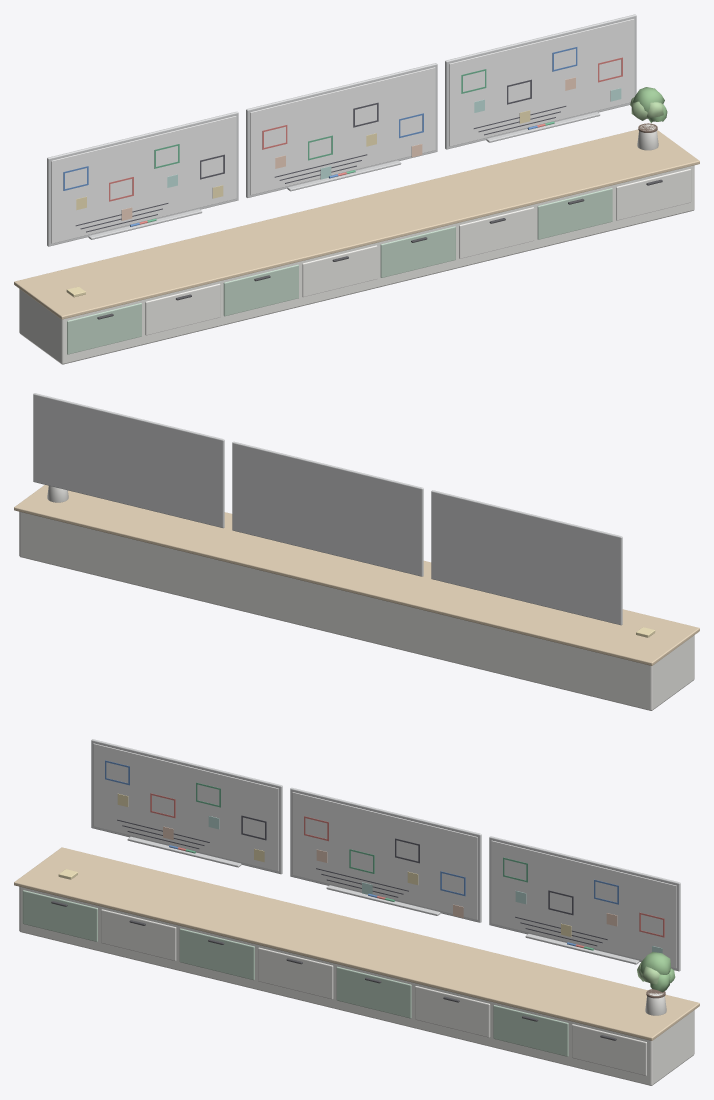
Rendered from prep.glb.
3 renders of one model, top to bottom at view 1: azimuth 30°, elevation 25°; view 2: azimuth 150°, elevation 25°; view 3: azimuth 330°, elevation 25°, orthographic.
Parts seen in each view (by area): view 1: prep_whiteboard, prep_oak, prep_white, prep_sage, prep_aluminium, prep_ink_black, prep_butter, prep_ink_blue, prep_ink_green, prep_ink_red, prep_leaf; view 2: prep_aluminium, prep_white, prep_oak; view 3: prep_whiteboard, prep_oak, prep_white, prep_sage, prep_aluminium, prep_ink_black, prep_leaf, prep_butter, prep_ink_green, prep_ink_blue, prep_ink_red, prep_peach.
Part boxes in pixels (x1,y1,x2,y2): prep_whiteboard: (51,19,634,243); prep_oak: (14,129,699,319); prep_white: (19,124,694,364); prep_sage: (67,188,612,354); prep_aluminium: (47,14,636,246); prep_ink_black: (75,79,566,232); prep_butter: (66,110,530,297); prep_ink_blue: (63,47,577,226); prep_ink_green: (147,69,554,222); prep_ink_red: (109,57,622,224); prep_leaf: (632,87,667,122); prep_aluminium: (33,393,622,625); prep_white: (19,486,694,710); prep_oak: (14,485,699,665); prep_whiteboard: (93,743,676,968); prep_oak: (14,847,699,1040); prep_white: (19,886,694,1085); prep_sage: (22,890,568,1056); prep_aluminium: (91,739,680,971); prep_ink_black: (117,815,607,946); prep_leaf: (640,952,675,992); prep_butter: (58,793,571,937); prep_ink_green: (185,782,593,950); prep_ink_blue: (105,760,618,946); prep_ink_red: (150,793,664,948); prep_peach: (163,826,617,926).
Bounding box in the file's own units: 9.2 × 2.31 × 1.2.
